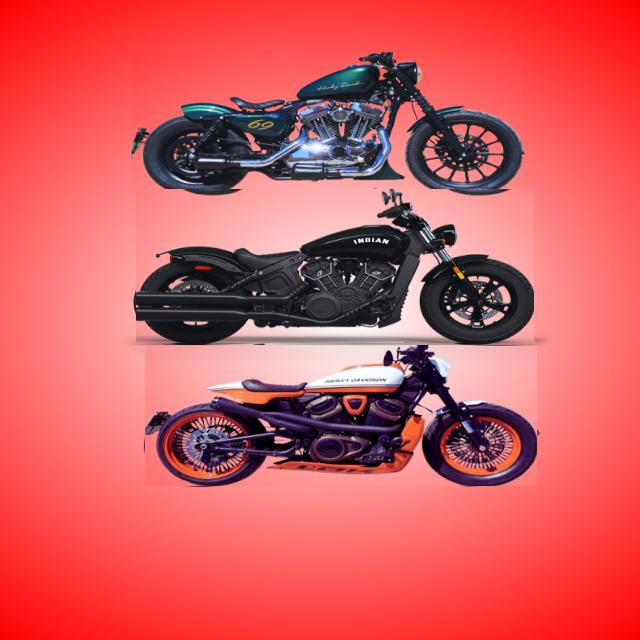motorcycle: (136, 190, 533, 343), (132, 53, 522, 195), (145, 345, 537, 486)
